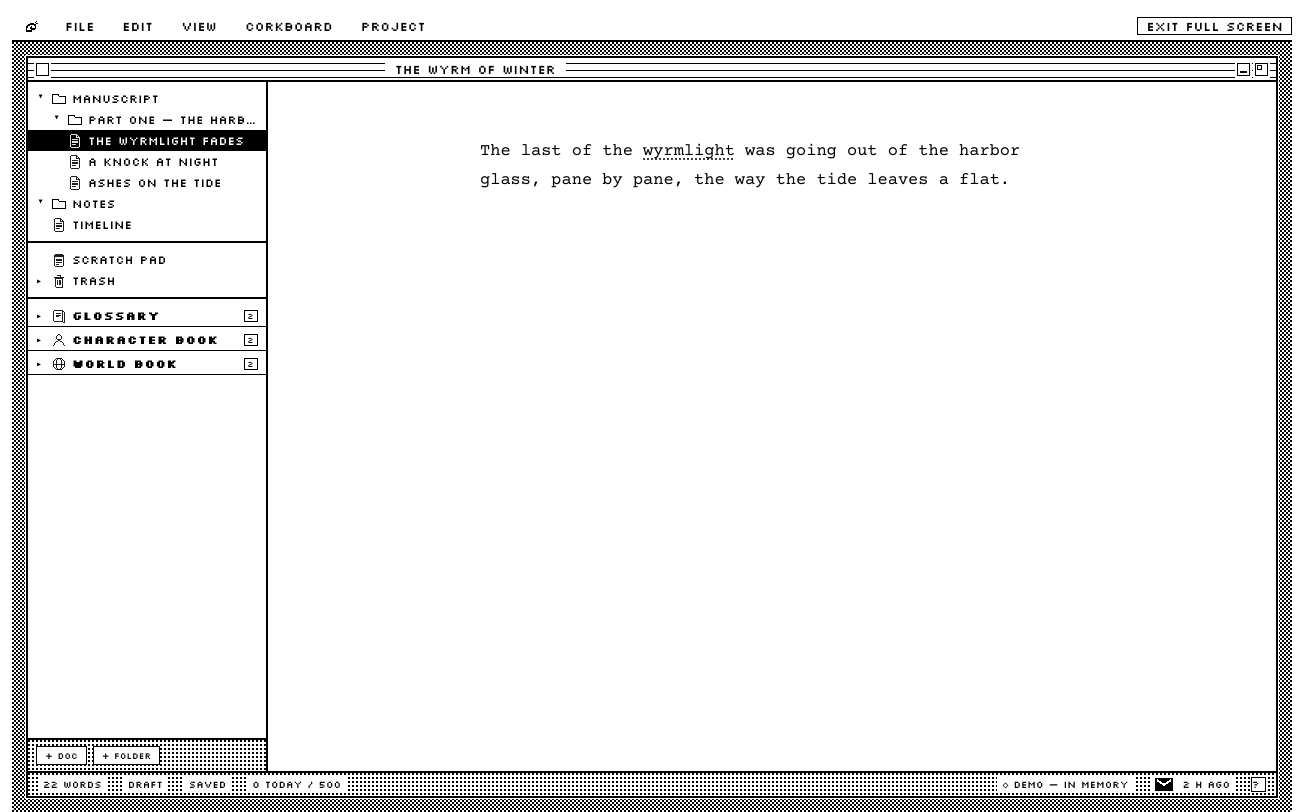
Scenario: the way out of full screen › renames the View menu item while full screen
Press the mouse on the menu item "View" at (199,26), box [167,12,231,40]
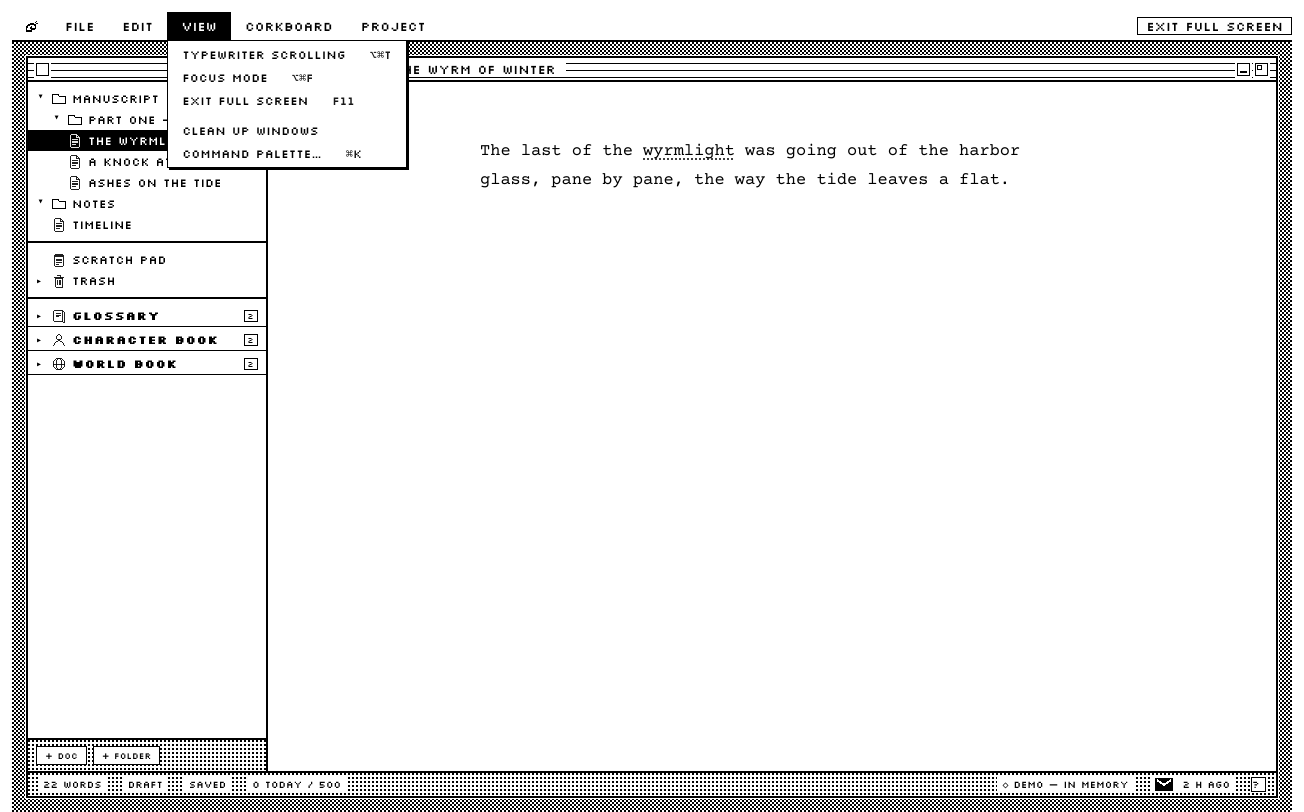
Check: the text "Exit Full Screen" is shown 2 times, box [182,93,308,108]; [1138,17,1292,35]
